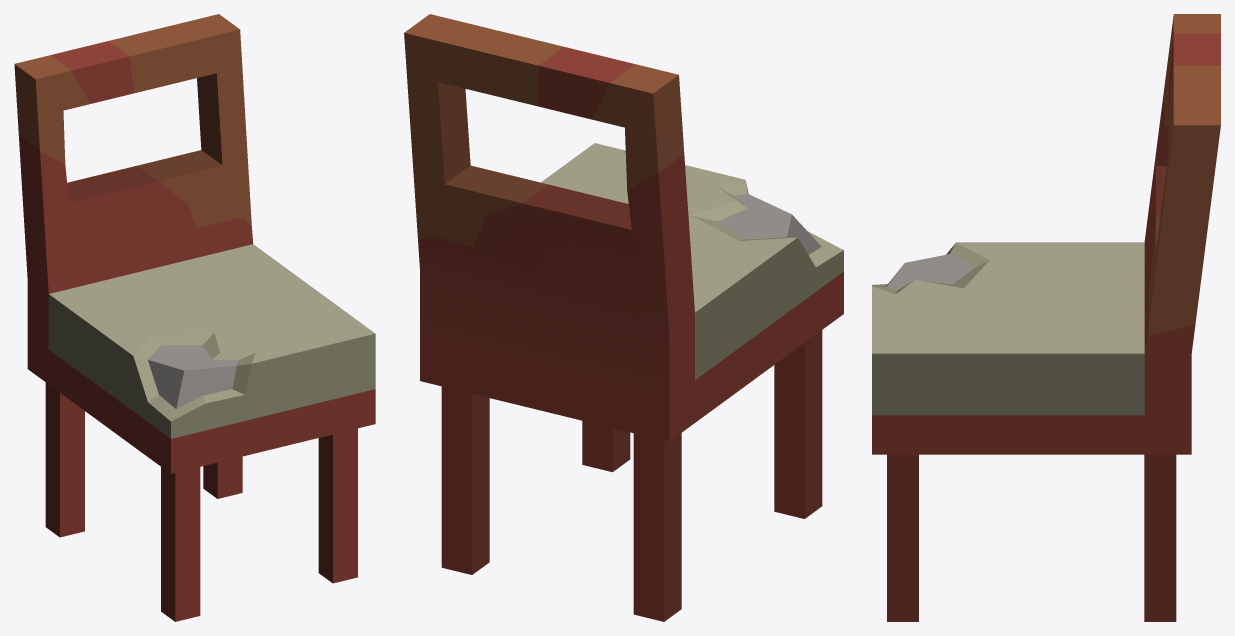
File: AI_Prop_Chair_Damaged_01.fbx
The picture shows the model from 3 angles, left to right: view 1: azimuth 30°, elevation 25°; view 2: azimuth 150°, elevation 25°; view 3: azimuth 270°, elevation 25°; orthographic projection. The views are drawn at different scales.
Parts seen in each view (by area): view 1: AI_Prop_Chair_Damaged_01; view 2: AI_Prop_Chair_Damaged_01; view 3: AI_Prop_Chair_Damaged_01.
Boxes of the visible parts, bbox=[...] form: AI_Prop_Chair_Damaged_01: bbox=[14, 14, 375, 621]; AI_Prop_Chair_Damaged_01: bbox=[404, 14, 843, 621]; AI_Prop_Chair_Damaged_01: bbox=[872, 14, 1220, 621].
Bounding box in the file's own units: 0.8872 × 1.87 × 1.18.
